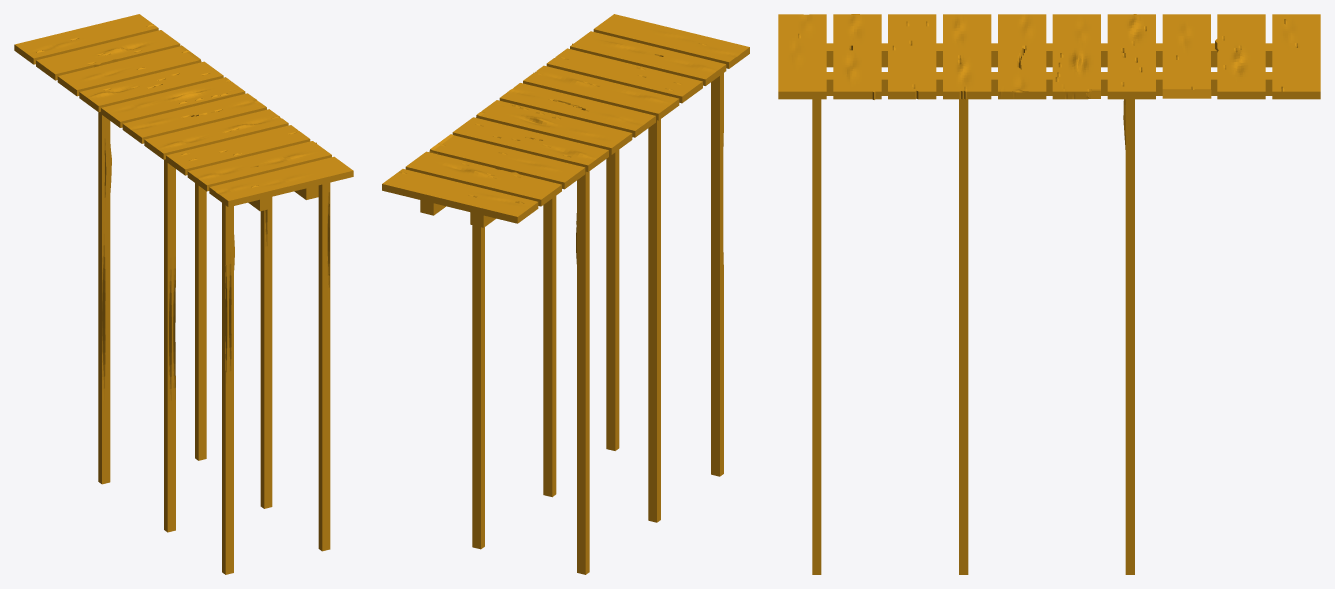
The model's file is dock.fbx.
3 views of the same model, side by side, from view 1: azimuth 30°, elevation 25°; view 2: azimuth 150°, elevation 25°; view 3: azimuth 270°, elevation 25° (orthographic). The views are drawn at different scales.
Parts seen in each view (by area): view 1: Cube.003; view 2: Cube.003; view 3: Cube.003.
Part boxes in pixels (bbox=[...]): Cube.003: bbox=[14, 14, 353, 574]; Cube.003: bbox=[382, 14, 749, 574]; Cube.003: bbox=[778, 14, 1320, 574].
Size of the model in its own units: 202 by 594 by 593.
1 material, 1 textured.
